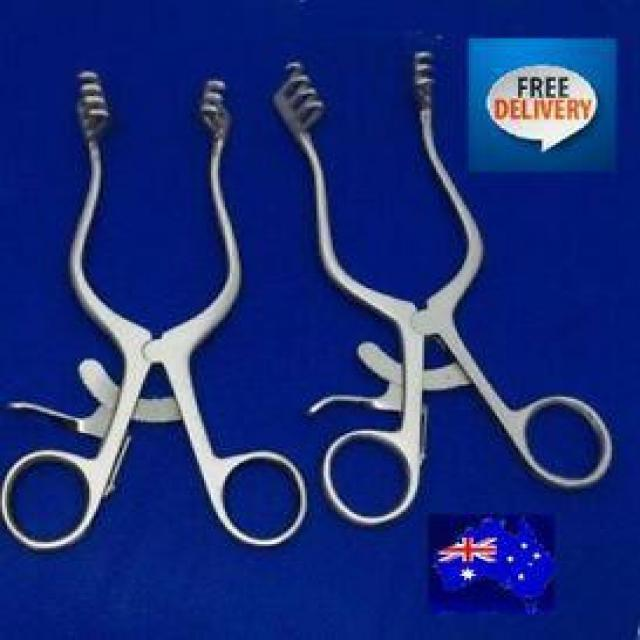Weitlaner: (267, 44, 617, 532), (0, 64, 312, 555)
